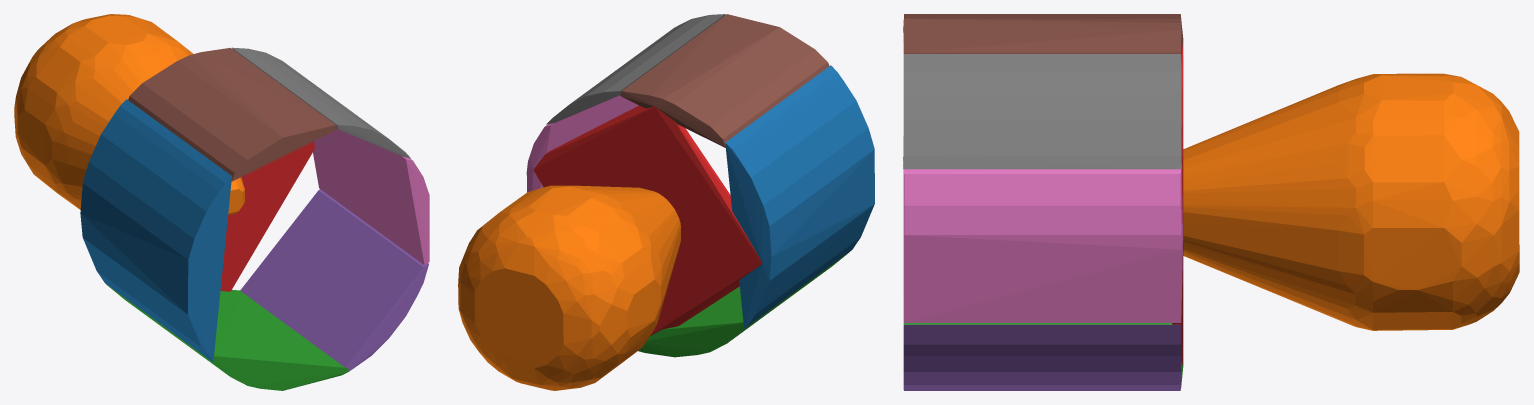
Rendered from LivingRoom_Lamp_01_cvx.obj.
3 views of the same model, side by side, from view 1: azimuth 30°, elevation 25°; view 2: azimuth 150°, elevation 25°; view 3: azimuth 270°, elevation 25° (orthographic). The views are drawn at different scales.
Parts seen in each view (by area): view 1: scenes/apartment_0000_coacd/output/Unknown/LivingRoom_Lamp_01/cv; view 2: scenes/apartment_0000_coacd/output/Unknown/LivingRoom_Lamp_01/cv; view 3: scenes/apartment_0000_coacd/output/Unknown/LivingRoom_Lamp_01/cv.
Part boxes in pixels (x1,y1,x2,y2): scenes/apartment_0000_coacd/output/Unknown/LivingRoom_Lamp_01/cv: [14, 14, 429, 390]; scenes/apartment_0000_coacd/output/Unknown/LivingRoom_Lamp_01/cv: [458, 14, 874, 390]; scenes/apartment_0000_coacd/output/Unknown/LivingRoom_Lamp_01/cv: [903, 14, 1519, 390].
Bounding box in the file's own units: 0.3008 × 0.304 × 0.4987.
